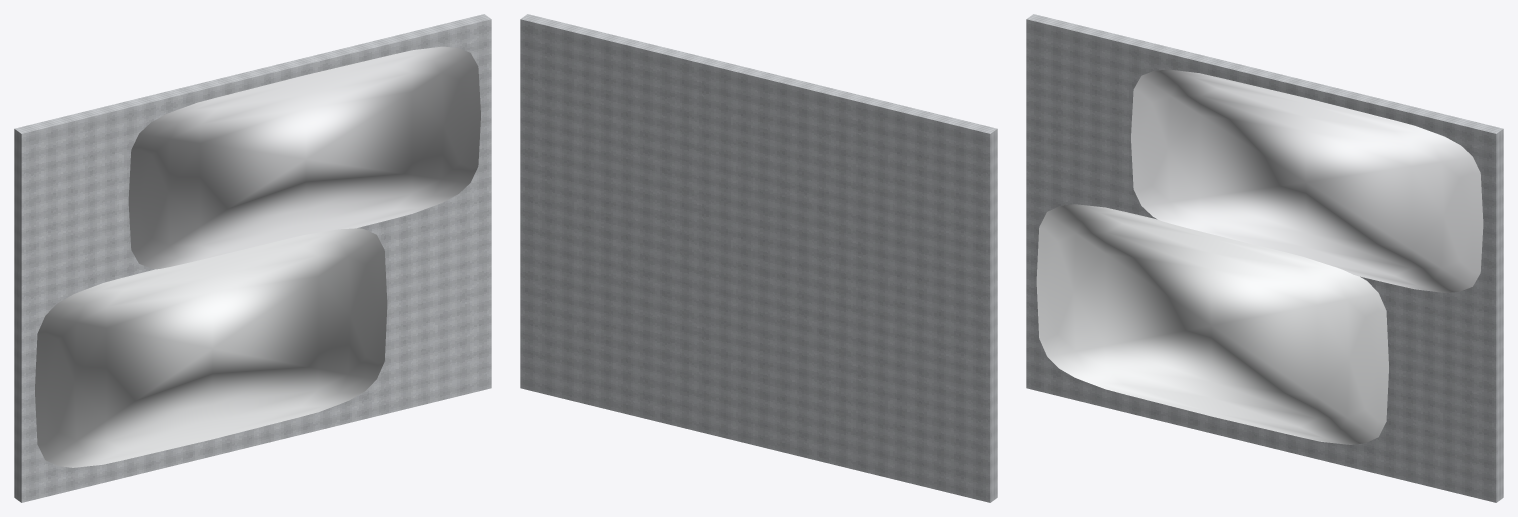
3 renders of one model, left to right at view 1: azimuth 30°, elevation 25°; view 2: azimuth 150°, elevation 25°; view 3: azimuth 330°, elevation 25°, orthographic.
Parts seen in each view (by area): view 1: 1 canvas_base, 3 lower_wave_relief, 2 upper_wave_relief; view 2: 1 canvas_base; view 3: 1 canvas_base, 3 lower_wave_relief, 2 upper_wave_relief.
Boxes of the visible parts, x1,y1,x2,y2 form: 1 canvas_base: [14, 14, 491, 502]; 3 lower_wave_relief: [35, 228, 387, 467]; 2 upper_wave_relief: [128, 46, 480, 269]; 1 canvas_base: [520, 14, 997, 502]; 1 canvas_base: [1026, 14, 1503, 502]; 3 lower_wave_relief: [1036, 204, 1388, 444]; 2 upper_wave_relief: [1131, 69, 1483, 292].
Bounding box in the file's own units: 1.33 × 1 × 0.05.
3 materials, 1 textured.
